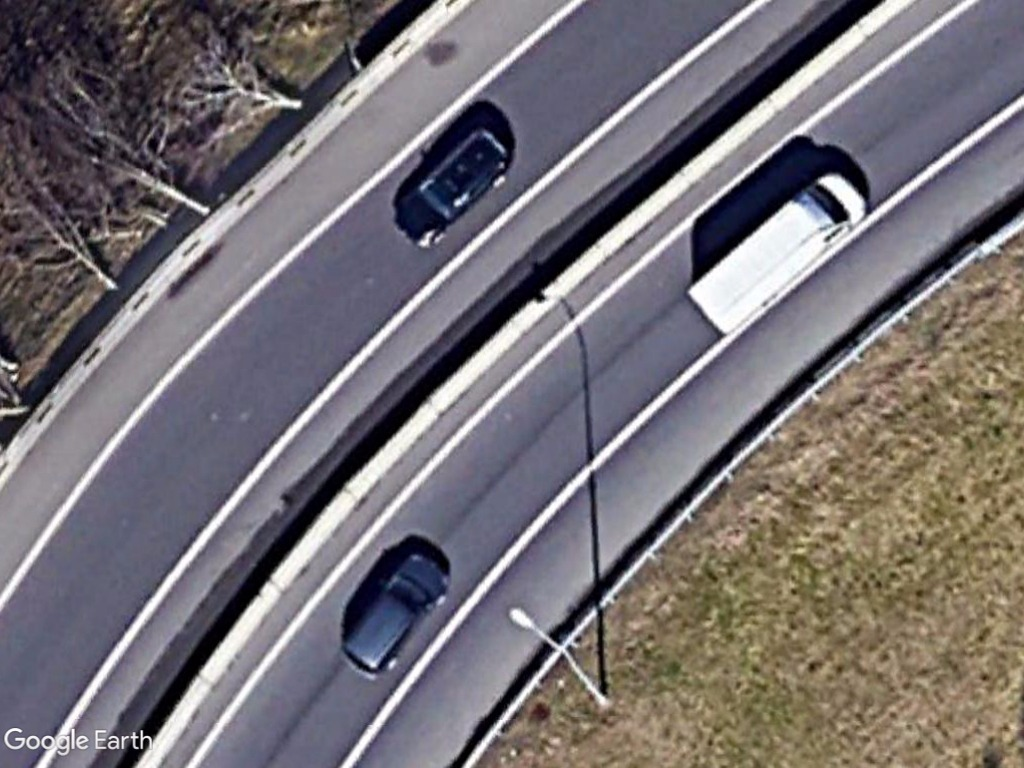car: (393, 117, 517, 252), (337, 544, 453, 681)
van: (680, 163, 869, 349)
